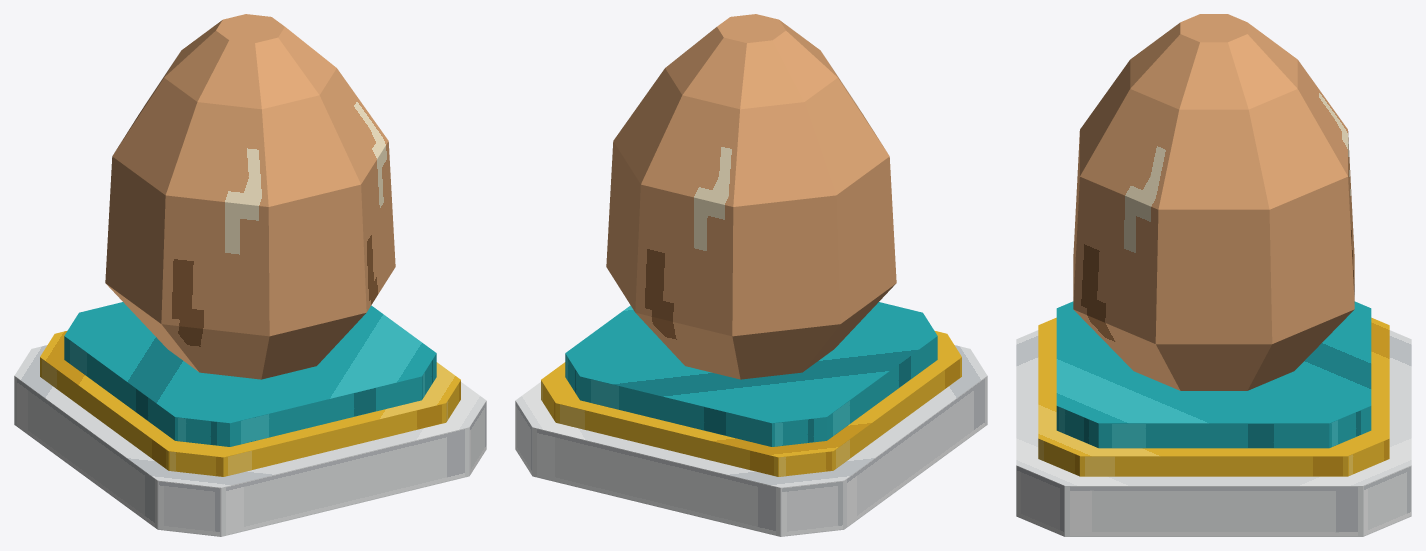
The model's file is egg-stands-props.glb.
3 renders of one model, left to right at view 1: azimuth 30°, elevation 25°; view 2: azimuth 150°, elevation 25°; view 3: azimuth 270°, elevation 25°, orthographic. The views are drawn at different scales.
Parts seen in each view (by area): view 1: Egg_Display, Egg_Plinth, Egg_Nest, Egg_Lip; view 2: Egg_Display, Egg_Plinth, Egg_Nest, Egg_Lip; view 3: Egg_Display, Egg_Plinth, Egg_Nest, Egg_Lip.
Part boxes in pixels (left/top/right/bottom): Egg_Display: left=105, top=14, right=395, bottom=379; Egg_Plinth: left=14, top=345, right=486, bottom=536; Egg_Nest: left=64, top=302, right=436, bottom=446; Egg_Lip: left=40, top=330, right=460, bottom=476; Egg_Display: left=606, top=14, right=896, bottom=379; Egg_Plinth: left=515, top=345, right=987, bottom=536; Egg_Nest: left=565, top=302, right=937, bottom=446; Egg_Lip: left=541, top=330, right=961, bottom=476; Egg_Display: left=1073, top=14, right=1354, bottom=390; Egg_Plinth: left=1016, top=330, right=1411, bottom=536; Egg_Nest: left=1056, top=301, right=1371, bottom=448; Egg_Lip: left=1038, top=317, right=1389, bottom=476.
Bounding box in the file's own units: 2.45 × 2.91 × 2.45.
1 material, 1 textured.
